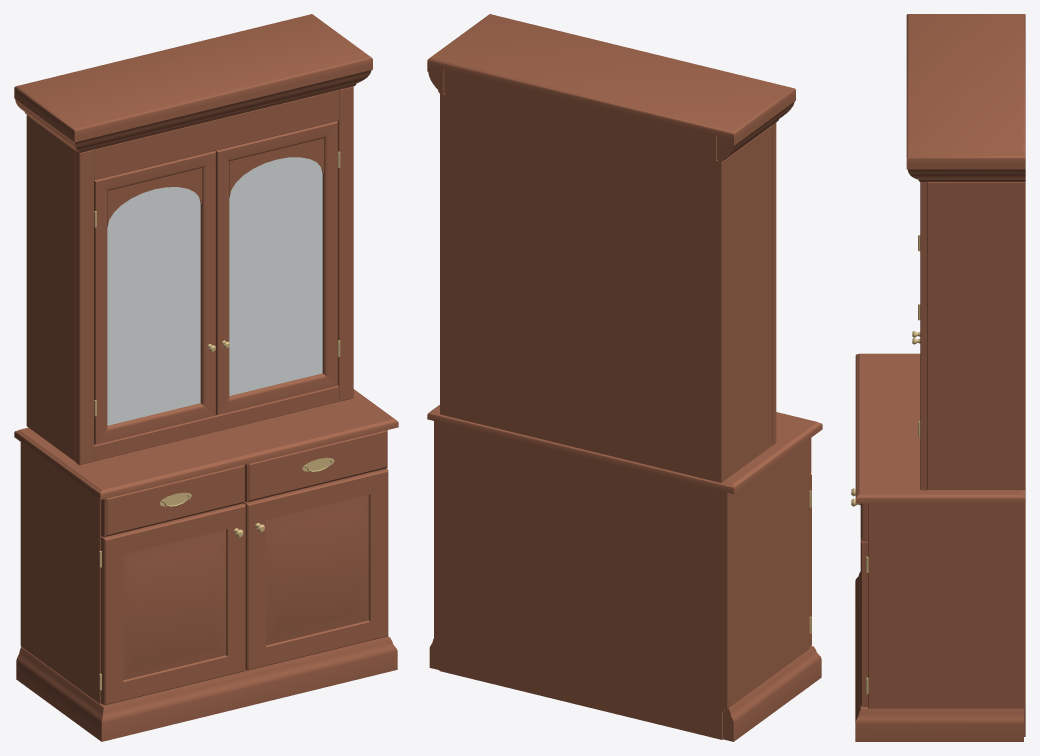
File: Kit_Hutch_Cherry.fbx
3 renders of one model, left to right at view 1: azimuth 30°, elevation 25°; view 2: azimuth 150°, elevation 25°; view 3: azimuth 270°, elevation 25°, orthographic. The views are drawn at different scales.
Parts seen in each view (by area): view 1: Kit_Hutch_LOD0; view 2: Kit_Hutch_LOD0; view 3: Kit_Hutch_LOD0.
Boxes of the visible parts, box(x1,y1,x2,y2) form: Kit_Hutch_LOD0: box(14, 14, 398, 741); Kit_Hutch_LOD0: box(427, 14, 822, 741); Kit_Hutch_LOD0: box(851, 14, 1025, 741).
Size of what is drawn, in the model's own units: 1 by 1.9 by 0.513.
